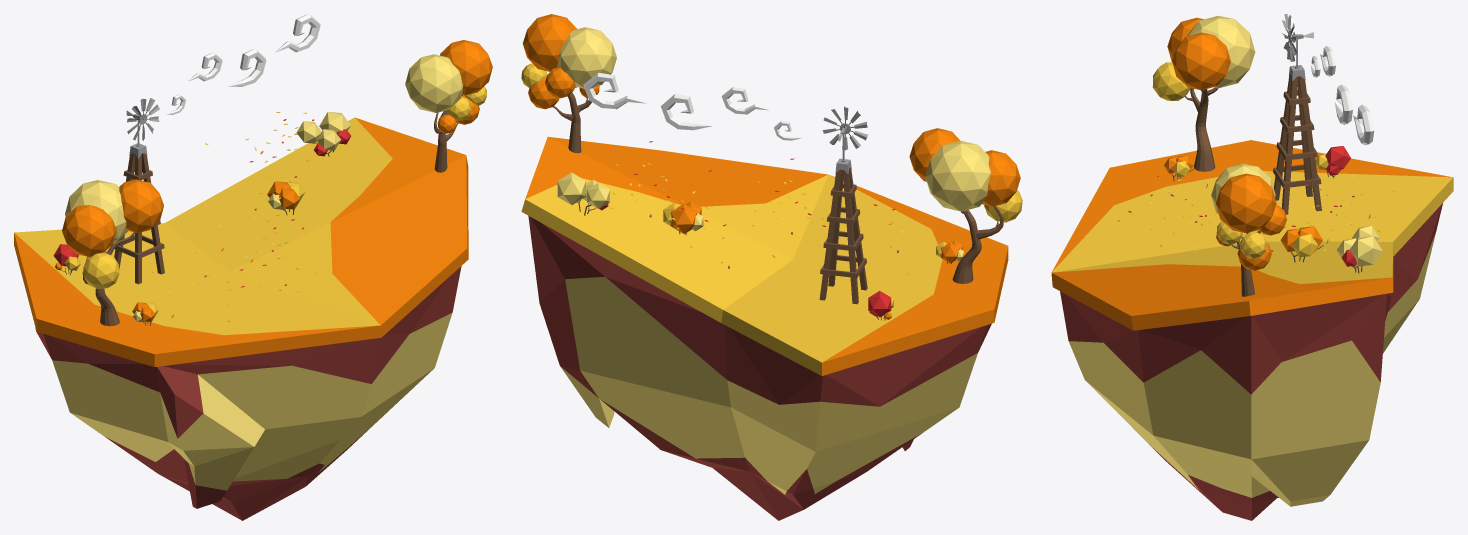
The model's file is Island_13.fbx.
The picture shows the model from 3 angles, left to right: view 1: azimuth 30°, elevation 25°; view 2: azimuth 150°, elevation 25°; view 3: azimuth 270°, elevation 25°; orthographic projection. The views are drawn at different scales.
Parts seen in each view (by area): view 1: Island_13_Base, Island_13, Island_13_Windmill; view 2: Island_13_Base, Island_13, Island_13_Windmill; view 3: Island_13_Base, Island_13, Island_13_Windmill.
Boxes of the visible parts, x1,y1,x2,y2 form: Island_13_Base: (14, 117, 468, 520); Island_13: (53, 14, 492, 326); Island_13_Windmill: (114, 98, 164, 284); Island_13_Base: (521, 136, 1008, 520); Island_13: (521, 14, 1022, 320); Island_13_Windmill: (819, 106, 867, 304); Island_13_Base: (1051, 140, 1453, 520); Island_13: (1117, 15, 1396, 296); Island_13_Windmill: (1273, 14, 1321, 214).
Size of the model in its own units: 3631 by 2607 by 3395.
